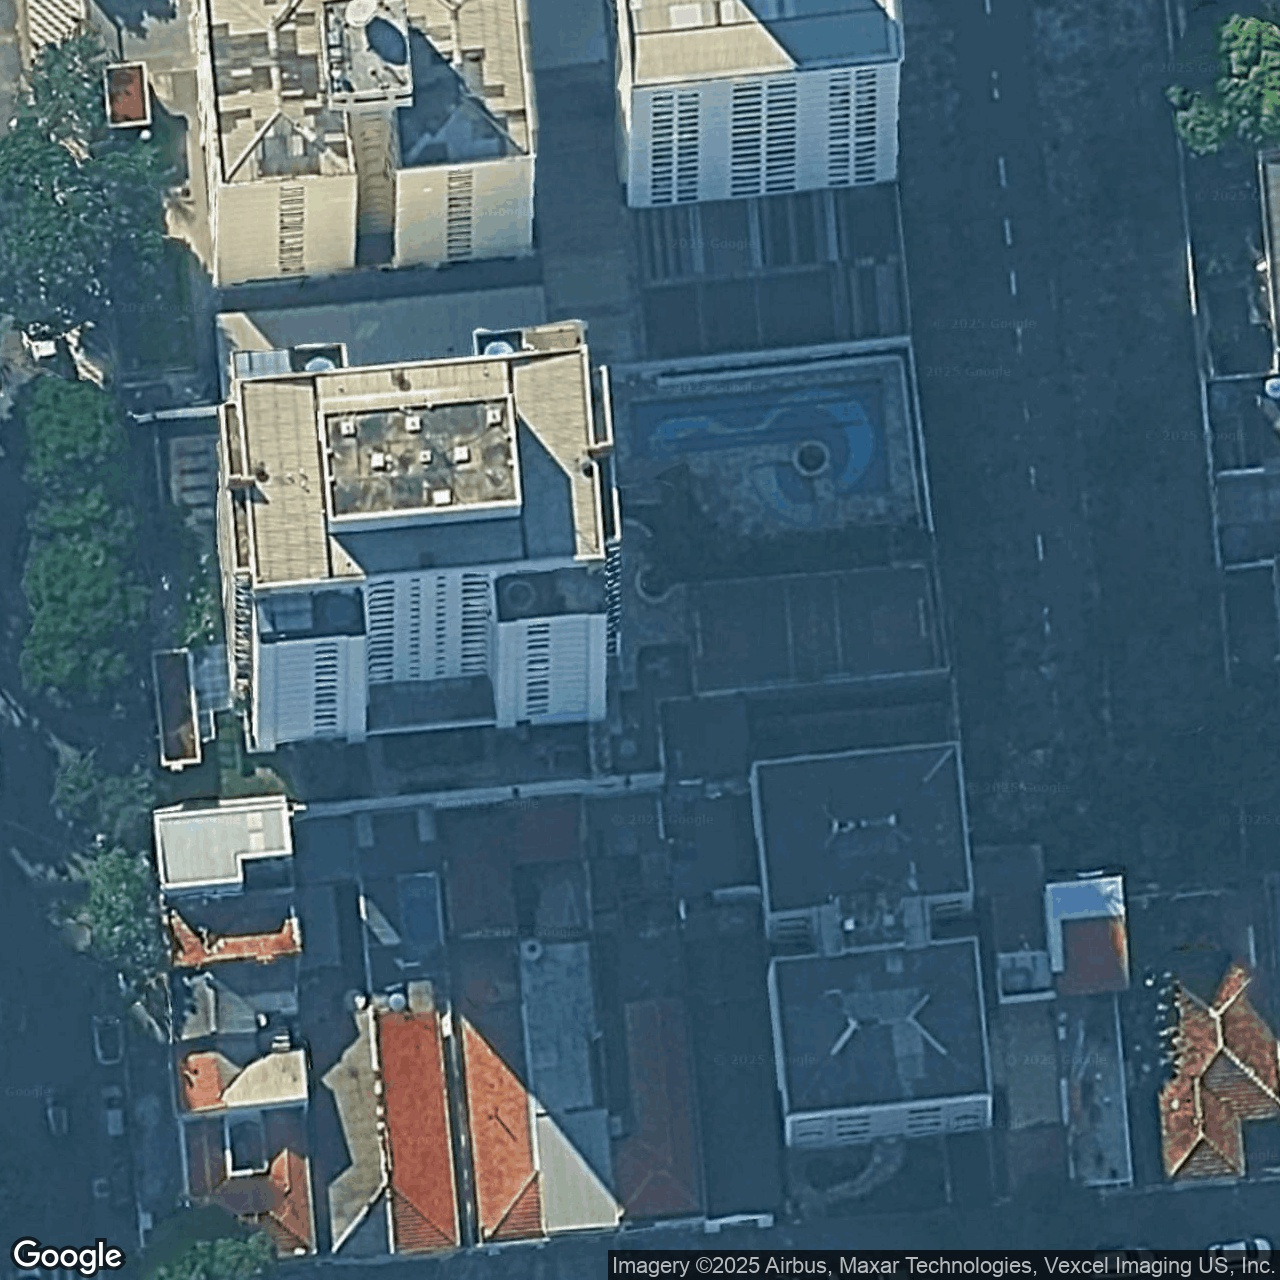pool: (634, 376, 894, 502), (387, 870, 442, 954)
